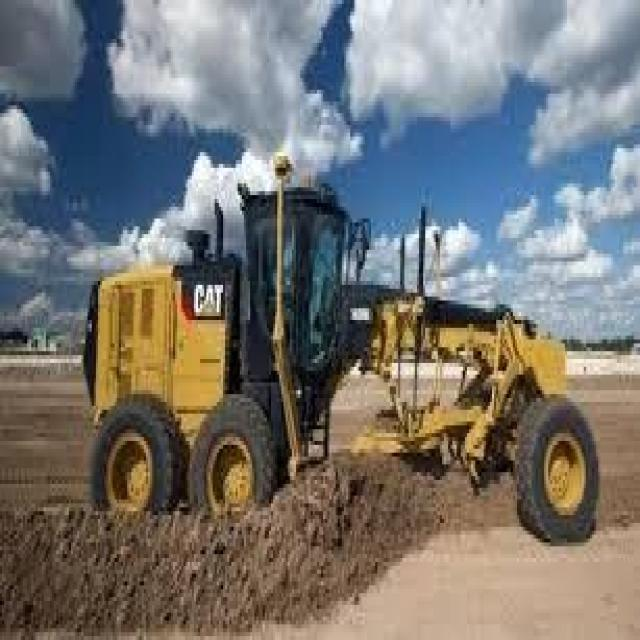buldozerpayloadergrader: (71, 148, 596, 578)
